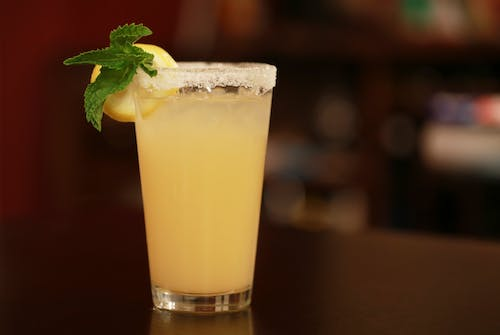alcohol: (131, 61, 278, 313)
